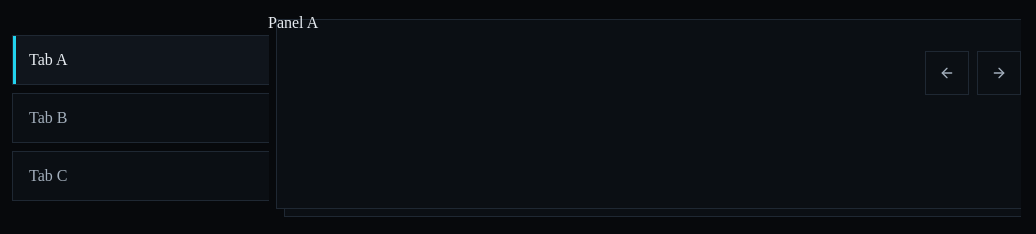
Test case: ProjectFolder — section-cut transition › switches instantly, without animation, when reduced motion is preferred
Click the tab "Tab B". click: [140, 118]
box: [12,93,269,143]
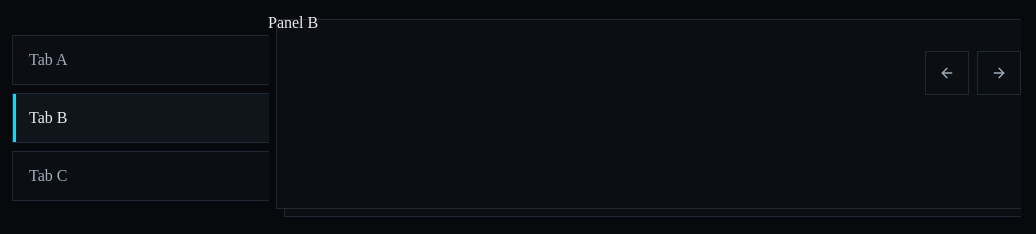
Expected: the text "Panel A" is gone
